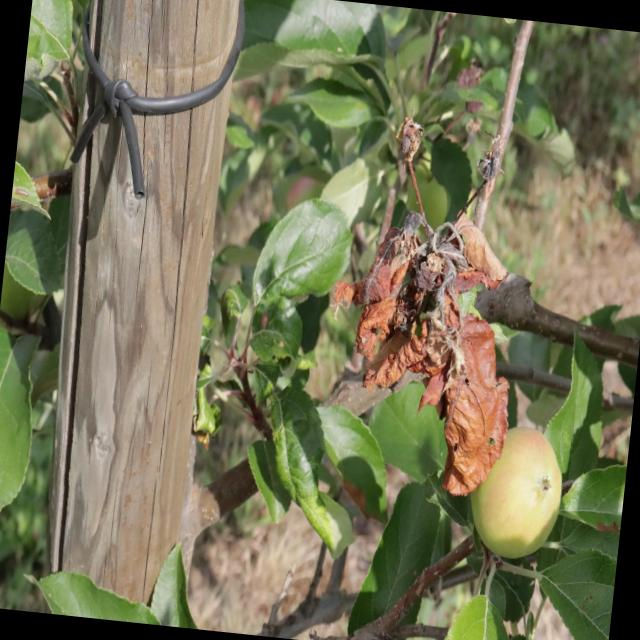-FireBlight-: (340, 223, 520, 501)
